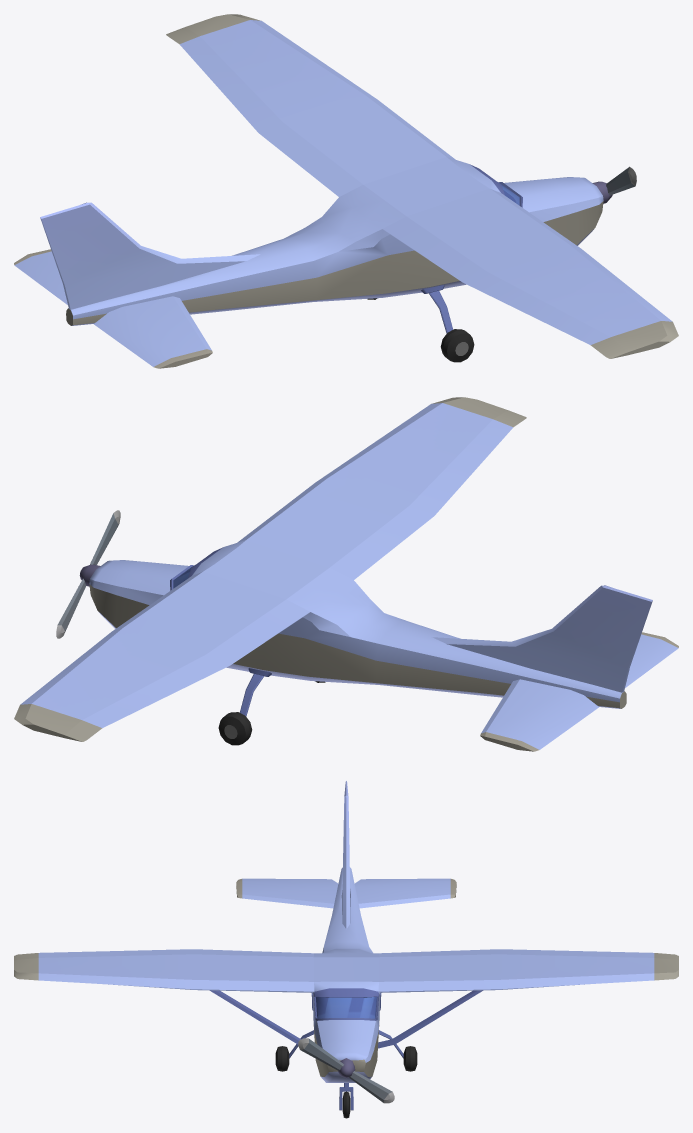
3 views of the same model, one above another, from view 1: azimuth 30°, elevation 25°; view 2: azimuth 150°, elevation 25°; view 3: azimuth 270°, elevation 25° (orthographic). The views are drawn at different scales.
Parts seen in each view (by area): view 1: Plane_2_A, Propeler; view 2: Plane_2_A, Propeler; view 3: Plane_2_A, Propeler.
Boxes of the visible parts, x1,y1,x2,y2 form: Plane_2_A: (14,14,678,368); Propeler: (606,166,636,195); Plane_2_A: (14,397,678,751); Propeler: (56,510,120,638); Plane_2_A: (14,781,678,1118); Propeler: (298,1038,394,1103).
Bounding box in the file's own units: 12.41 × 4.29 × 16.66.
